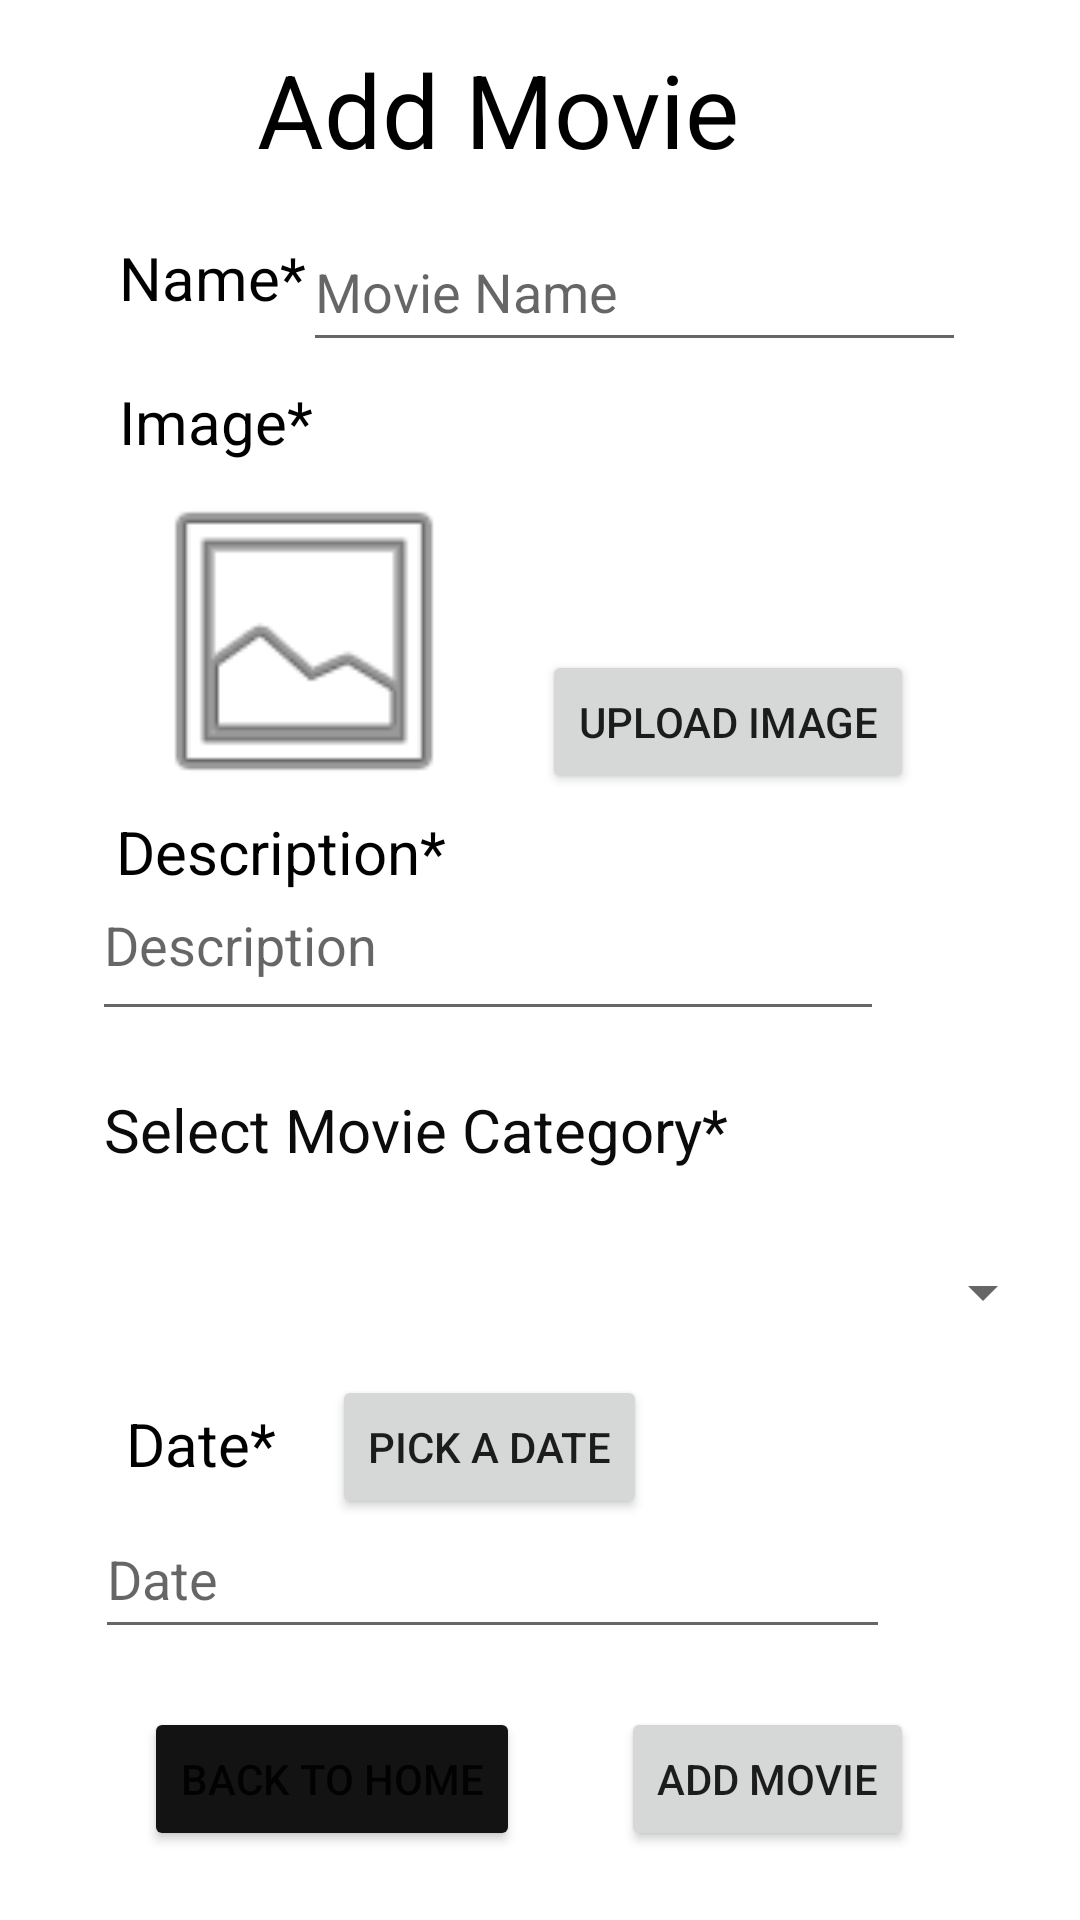

Named icons in this screenshot (1080 x 1920) and their centers, point (x, y):
gallery: point (304, 641)
